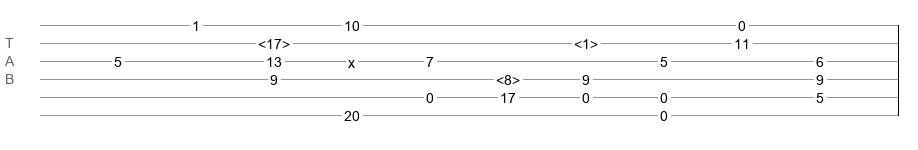0: (426, 90, 434, 100), (582, 90, 590, 100), (660, 108, 668, 118), (660, 90, 668, 100), (738, 18, 746, 28)
1: (192, 18, 200, 28)
10: (344, 18, 360, 28)
11: (734, 36, 750, 46)
13: (266, 54, 282, 64)
17: (500, 90, 516, 100)
20: (344, 108, 360, 118)
5: (114, 54, 122, 64), (660, 54, 668, 64), (816, 90, 824, 100)
6: (816, 54, 824, 64)
7: (426, 54, 434, 64)
9: (270, 72, 278, 82), (582, 72, 590, 82), (816, 72, 824, 82)
harmonic: (258, 36, 290, 46), (496, 72, 520, 82), (574, 36, 598, 46)
x: (348, 55, 355, 63)
